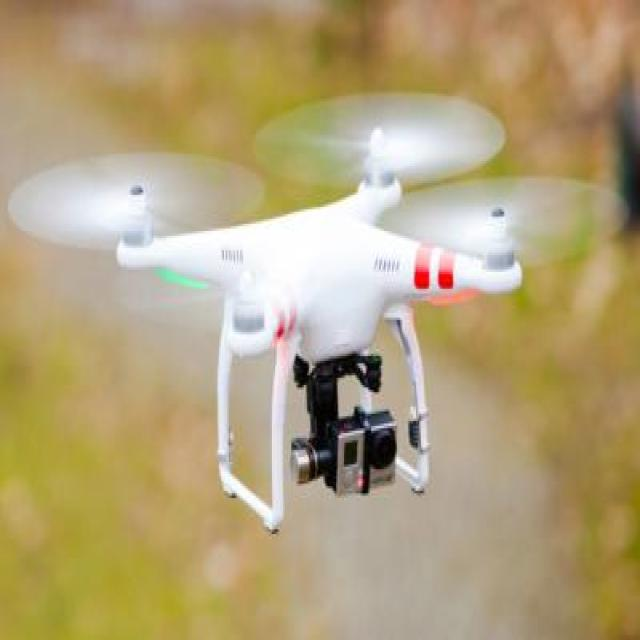drone: (3, 88, 630, 538)
